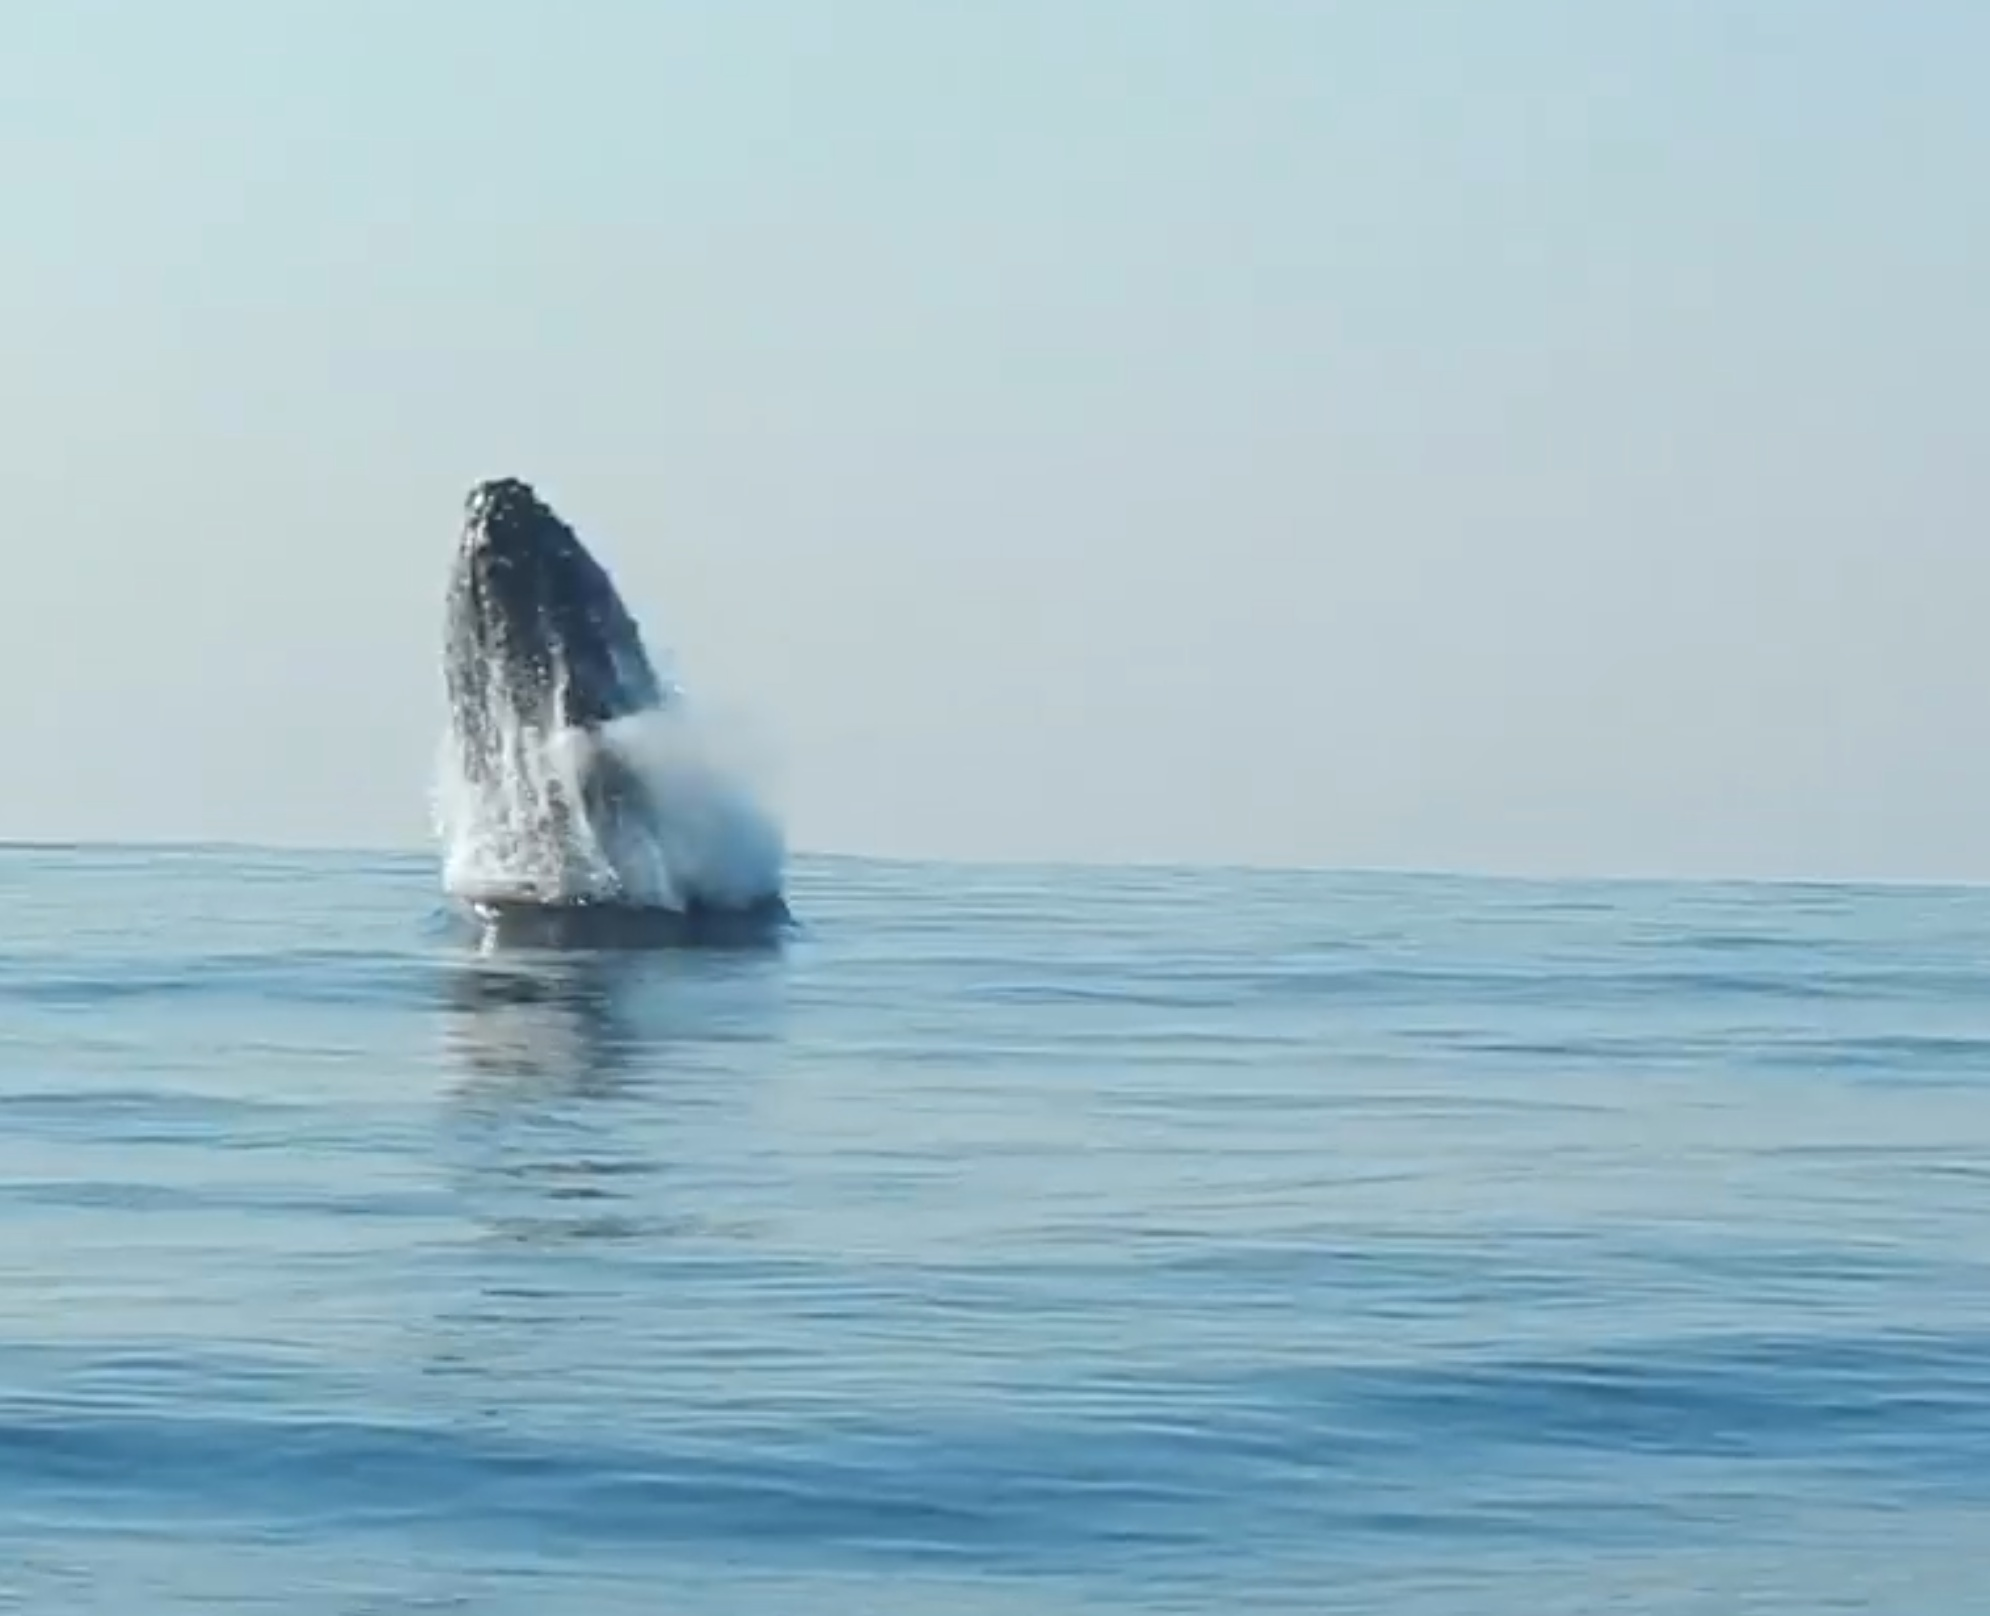humpback: (439, 463, 796, 930)
